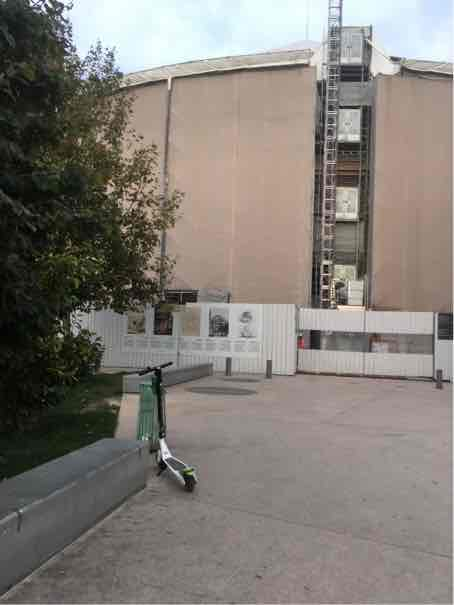scooter: (115, 357, 212, 495)
